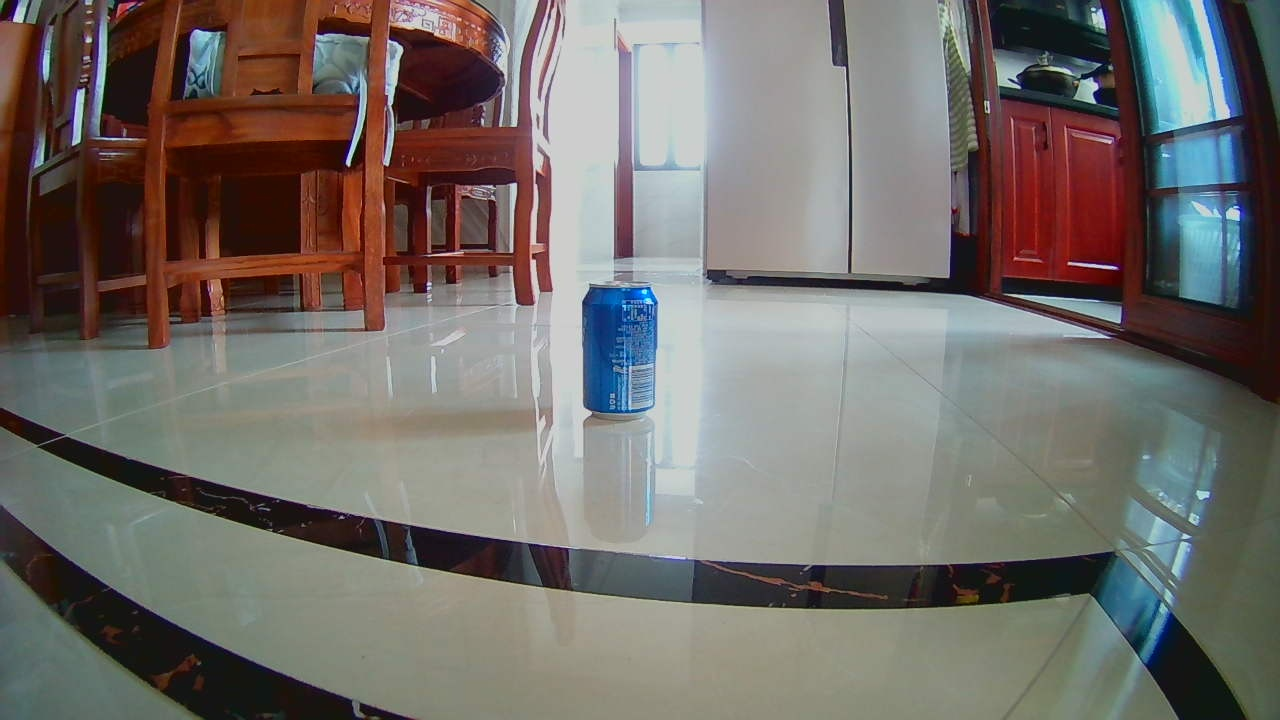pessi: (580, 280, 658, 419)
